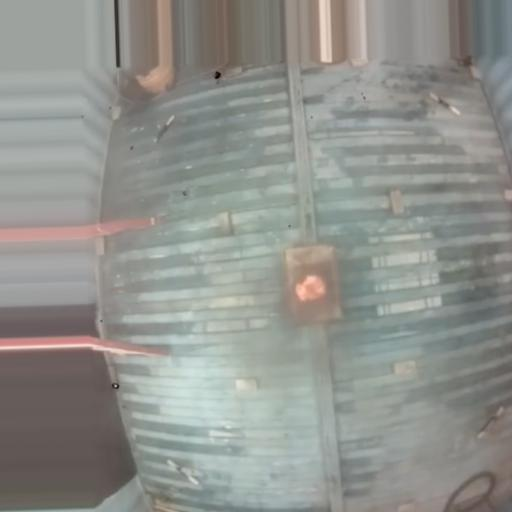Fire: (295, 273, 325, 301)
